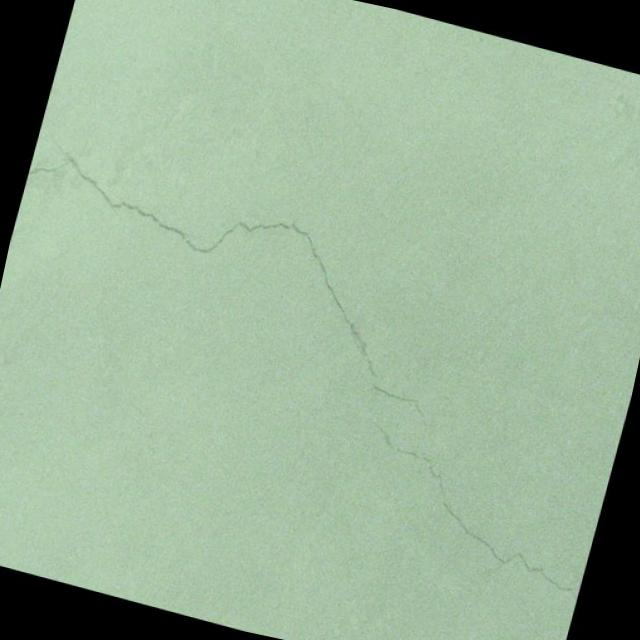crack: (0, 135, 491, 446), (332, 414, 610, 612)
